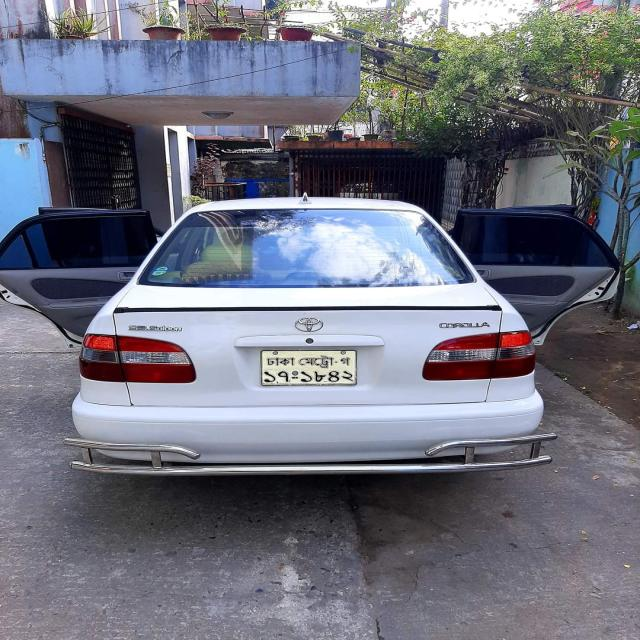white: (72, 191, 582, 489)
